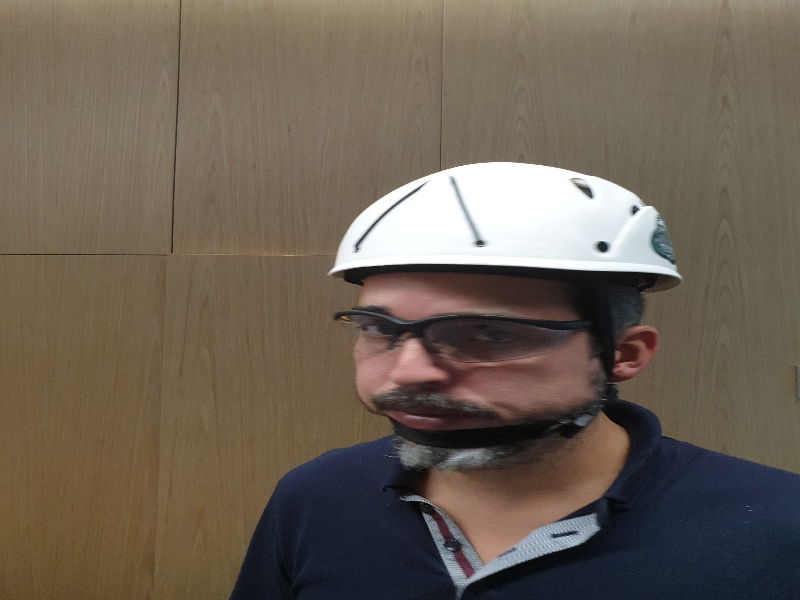Baret: (326, 161, 683, 285)
Gozluk: (332, 308, 603, 363)
